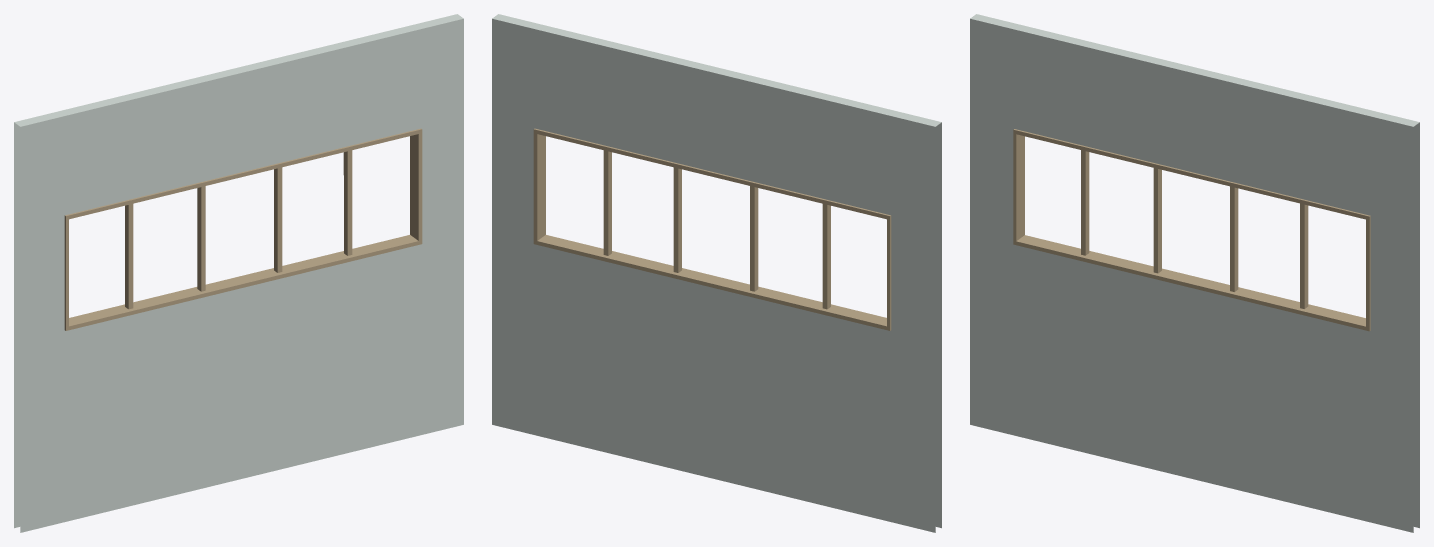
The model's file is SM_Wall_Outer_Window_B_800.fbx.
3 renders of one model, left to right at view 1: azimuth 30°, elevation 25°; view 2: azimuth 150°, elevation 25°; view 3: azimuth 330°, elevation 25°, orthographic.
Visible parts, largest first — view 1: SM_Wall_Outer_Window_B_800; view 2: SM_Wall_Outer_Window_B_800; view 3: SM_Wall_Outer_Window_B_800.
Boxes of the visible parts, x1=… form: SM_Wall_Outer_Window_B_800: x1=14, y1=14, x2=463, y2=532; SM_Wall_Outer_Window_B_800: x1=492, y1=14, x2=941, y2=532; SM_Wall_Outer_Window_B_800: x1=970, y1=14, x2=1419, y2=532.
Bounding box in the file's own units: 800 × 700 × 27.27.
